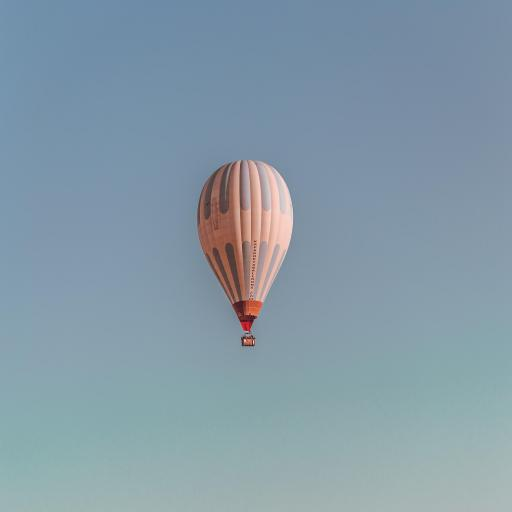hot air ballon: (197, 163, 293, 346)
